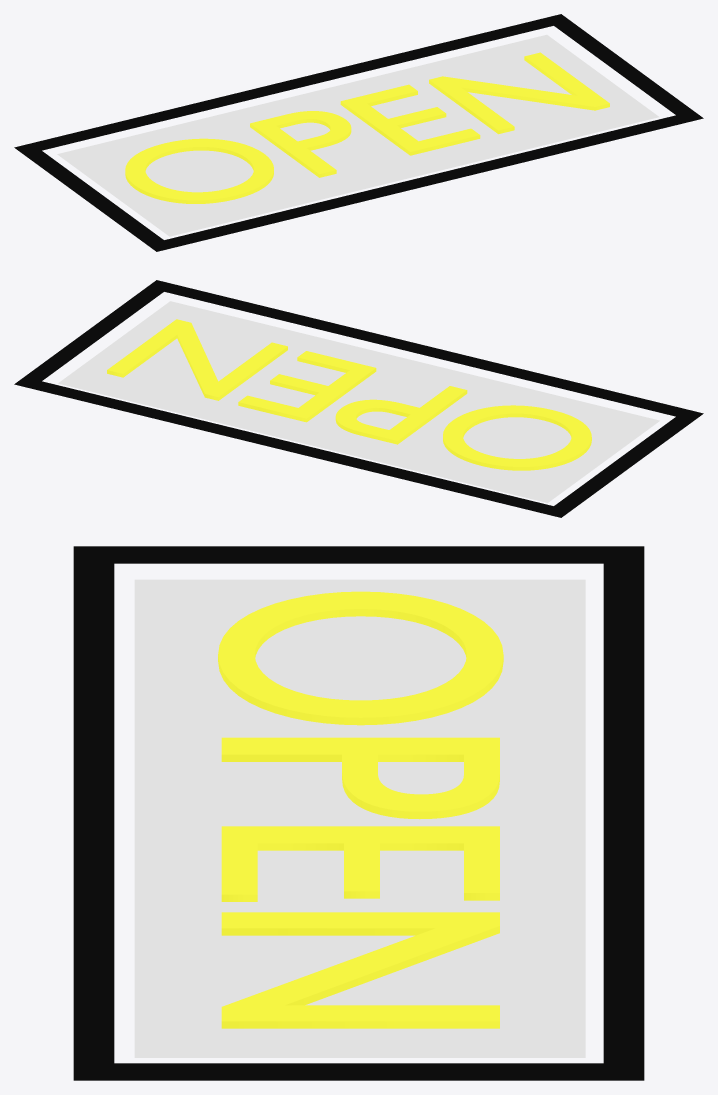
Rendered from button.glb.
3 views of the same model, one above another, from view 1: azimuth 30°, elevation 25°; view 2: azimuth 150°, elevation 25°; view 3: azimuth 270°, elevation 25° (orthographic). The views are drawn at different scales.
Visible parts, largest first — view 1: Plane.001, Plane, Text; view 2: Plane.001, Plane, Text; view 3: Plane.001, Plane, Text.
Part boxes in pixels (x1=…): Plane.001: x1=57, y1=34, x2=659, y2=236; Plane: x1=14, y1=14, x2=703, y2=251; Text: x1=125, y1=52, x2=609, y2=203; Plane.001: x1=58, y1=301, x2=659, y2=502; Plane: x1=14, y1=280, x2=703, y2=517; Text: x1=107, y1=319, x2=591, y2=470; Plane.001: x1=134, y1=579, x2=585, y2=1057; Plane: x1=73, y1=546, x2=644, y2=1080; Text: x1=218, y1=591, x2=503, y2=1028.
Size of the model in its own units: 3.1 by 0.0252 by 1.4.
